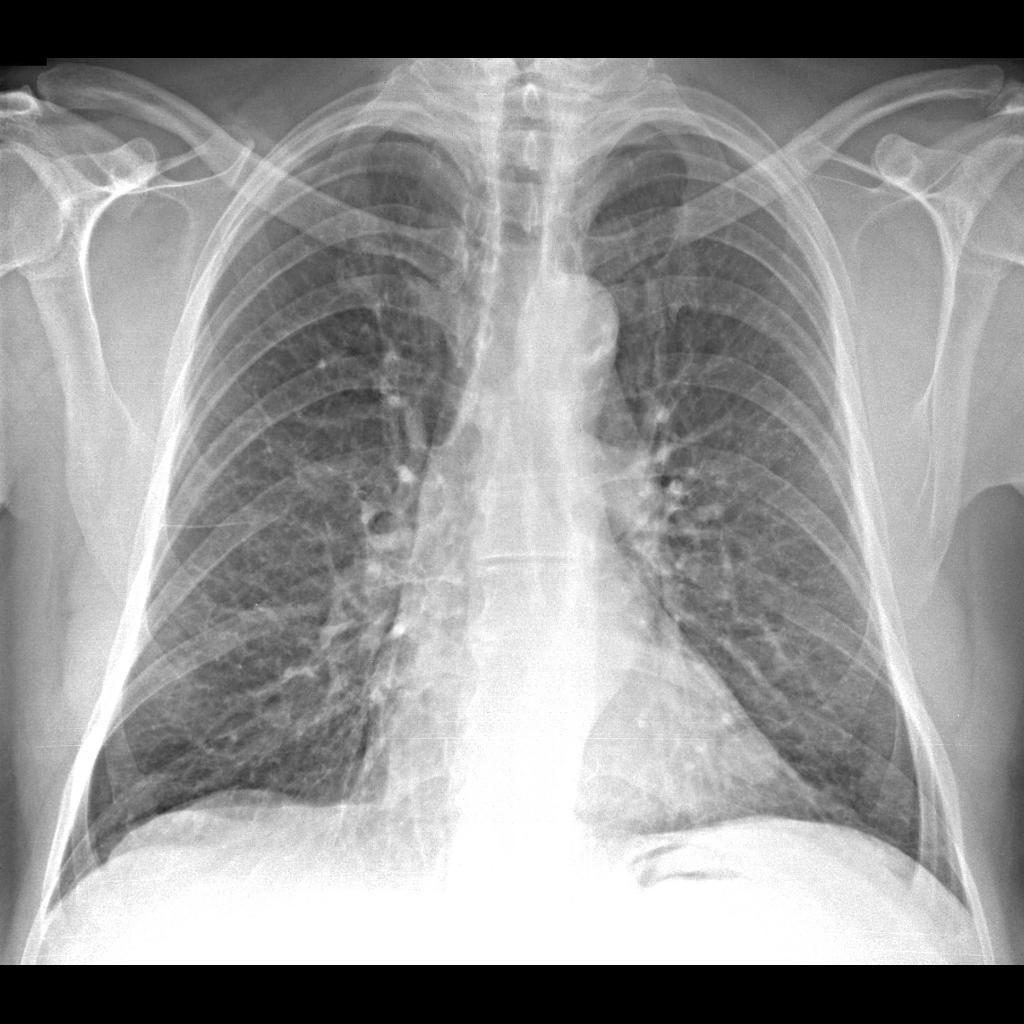Nodule: (715, 721, 788, 791)
